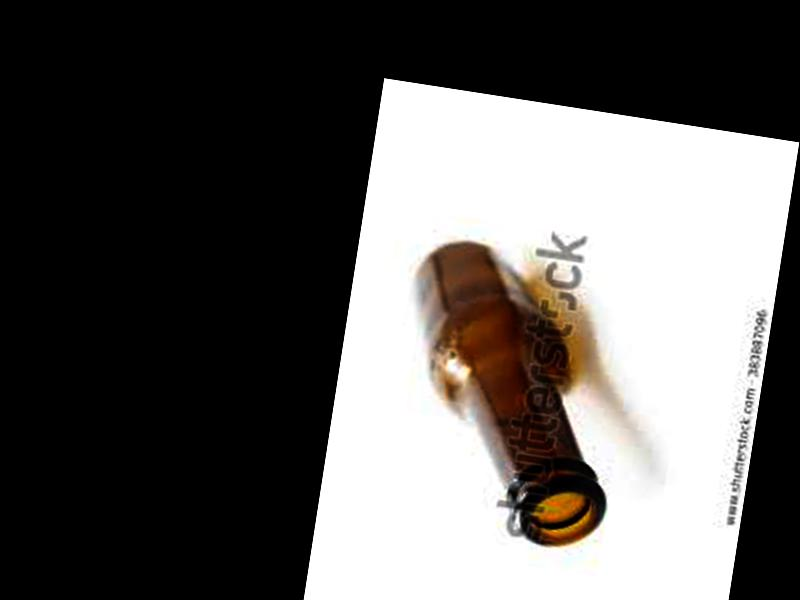Beer: (379, 234, 644, 555)
